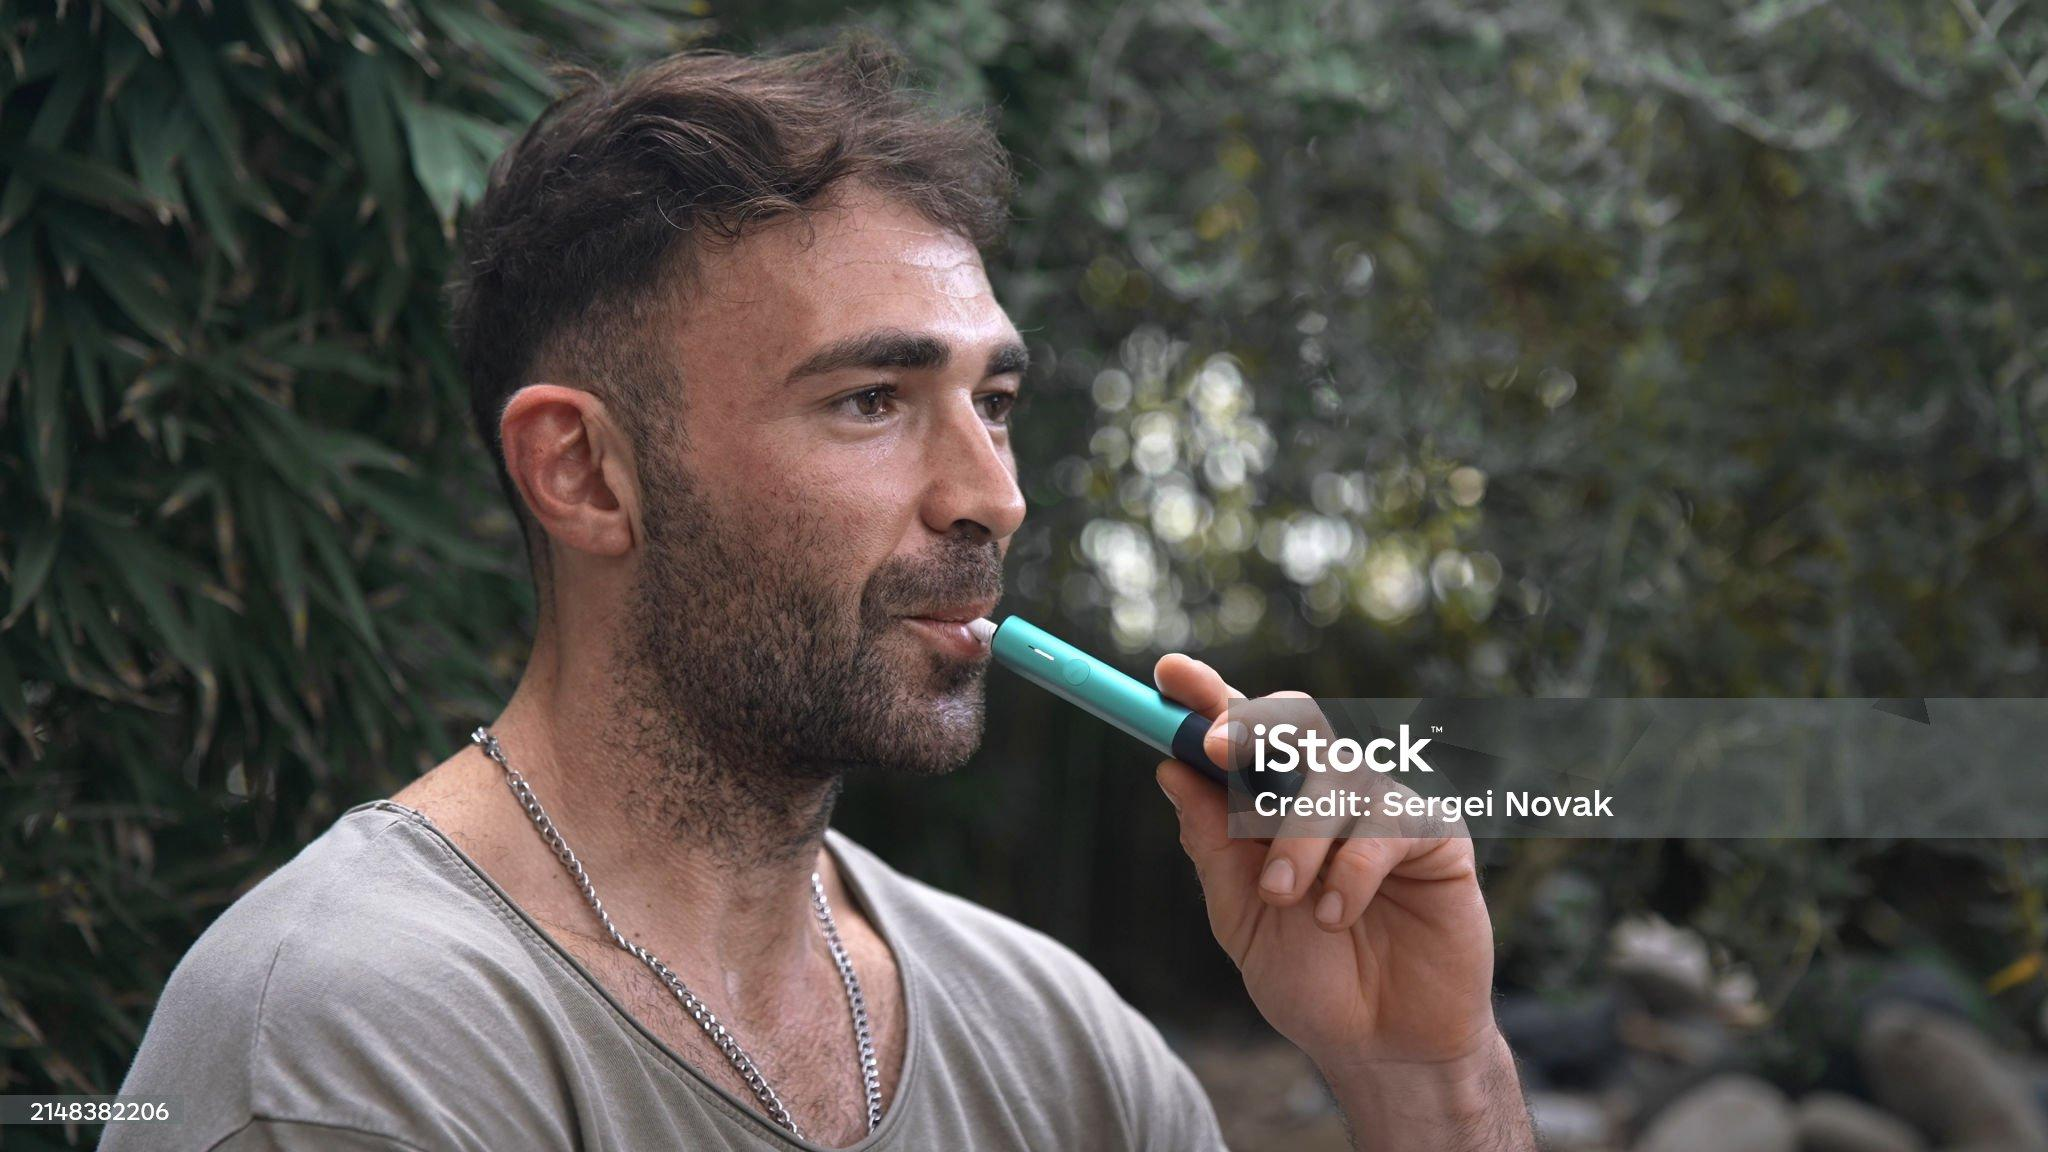iqos: (971, 617, 1228, 783)
